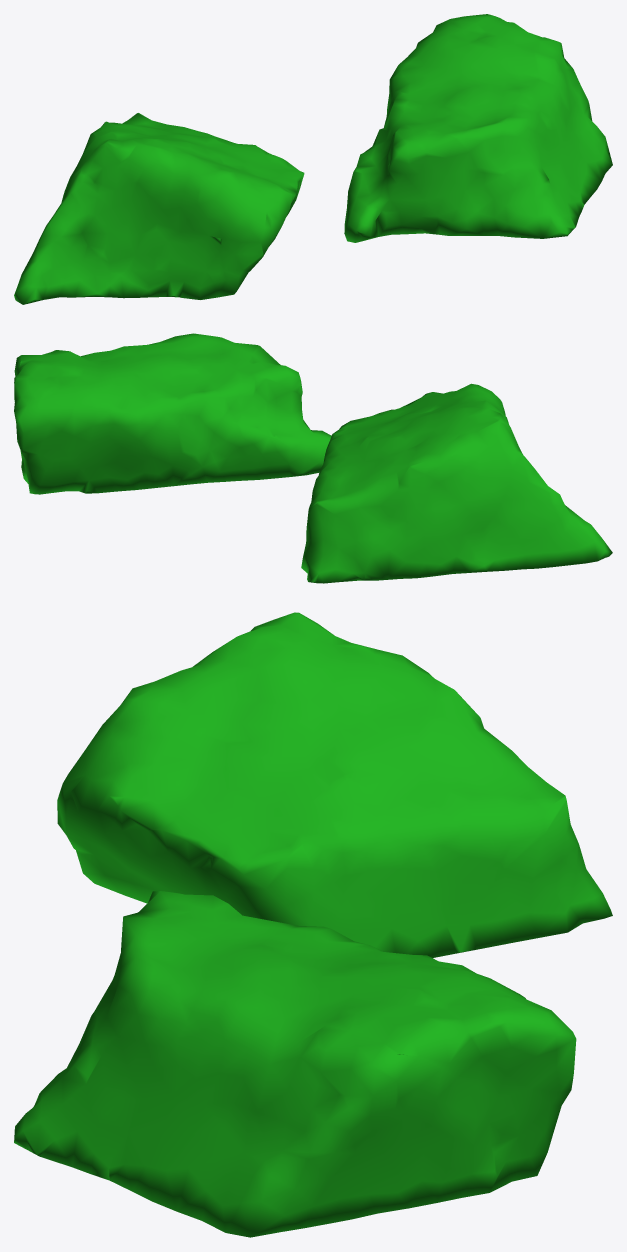
The picture shows the model from 3 angles, top to bottom: view 1: azimuth 30°, elevation 25°; view 2: azimuth 150°, elevation 25°; view 3: azimuth 270°, elevation 25°; orthographic projection. The views are drawn at different scales.
Parts seen in each view (by area): view 1: Various_Flat_Bottomed_Rocks_for_Scenery_2; view 2: Various_Flat_Bottomed_Rocks_for_Scenery_2; view 3: Various_Flat_Bottomed_Rocks_for_Scenery_2.
Boxes of the visible parts, x1=… form: Various_Flat_Bottomed_Rocks_for_Scenery_2: x1=14, y1=14, x2=612, y2=304; Various_Flat_Bottomed_Rocks_for_Scenery_2: x1=14, y1=333, x2=612, y2=583; Various_Flat_Bottomed_Rocks_for_Scenery_2: x1=14, y1=612, x2=612, y2=1237.
Size of the model in its own units: 1150 by 234 by 586.
